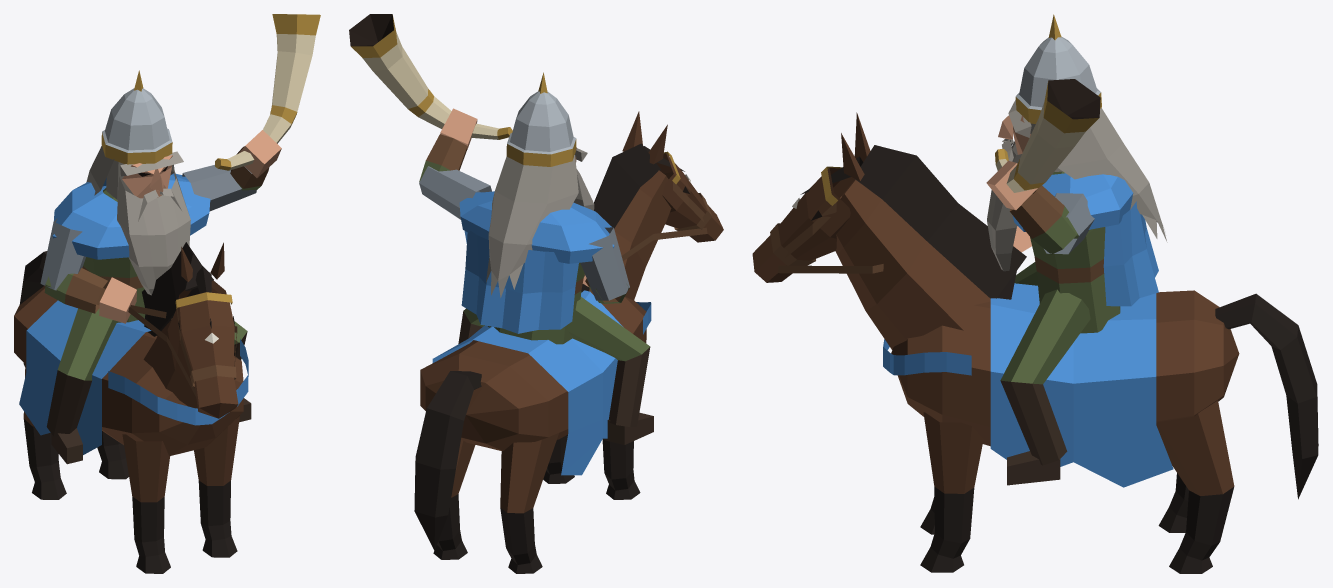
The model's file is gamling.glb.
3 views of the same model, side by side, from view 1: azimuth 30°, elevation 25°; view 2: azimuth 150°, elevation 25°; view 3: azimuth 270°, elevation 25° (orthographic). The views are drawn at different scales.
Visible parts, largest first — view 1: gamling; view 2: gamling; view 3: gamling.
Boxes of the visible parts, x1=… form: gamling: x1=14, y1=14, x2=320, y2=573; gamling: x1=349, y1=14, x2=723, y2=573; gamling: x1=752, y1=14, x2=1318, y2=573.
Size of the model in its own units: 1.1 by 1.77 by 1.64.
